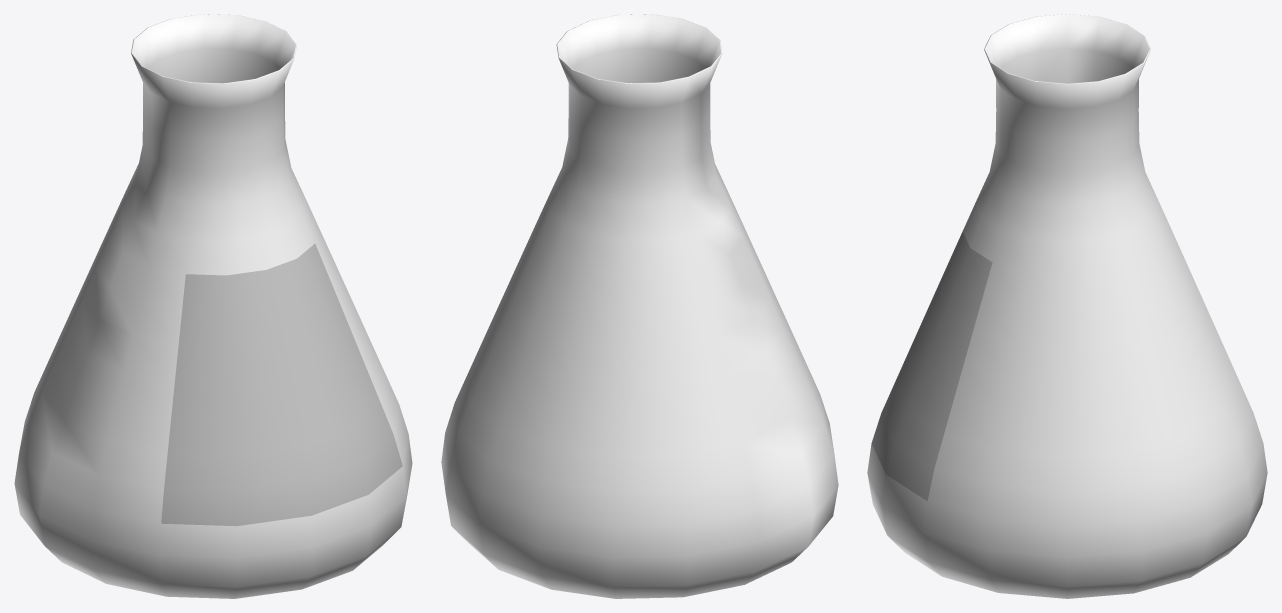
File: cylinder_Erlenmeyer flask.fbx
3 renders of one model, left to right at view 1: azimuth 30°, elevation 25°; view 2: azimuth 150°, elevation 25°; view 3: azimuth 270°, elevation 25°, orthographic.
Visible parts, largest first — view 1: Erlenmeyer flask.001; view 2: Erlenmeyer flask.001; view 3: Erlenmeyer flask.001.
Part boxes in pixels (x1,y1,x2,y2): Erlenmeyer flask.001: (14,14,412,598); Erlenmeyer flask.001: (441,14,838,598); Erlenmeyer flask.001: (867,14,1267,598).
Size of the model in its own units: 13.19 by 18.24 by 13.19.
